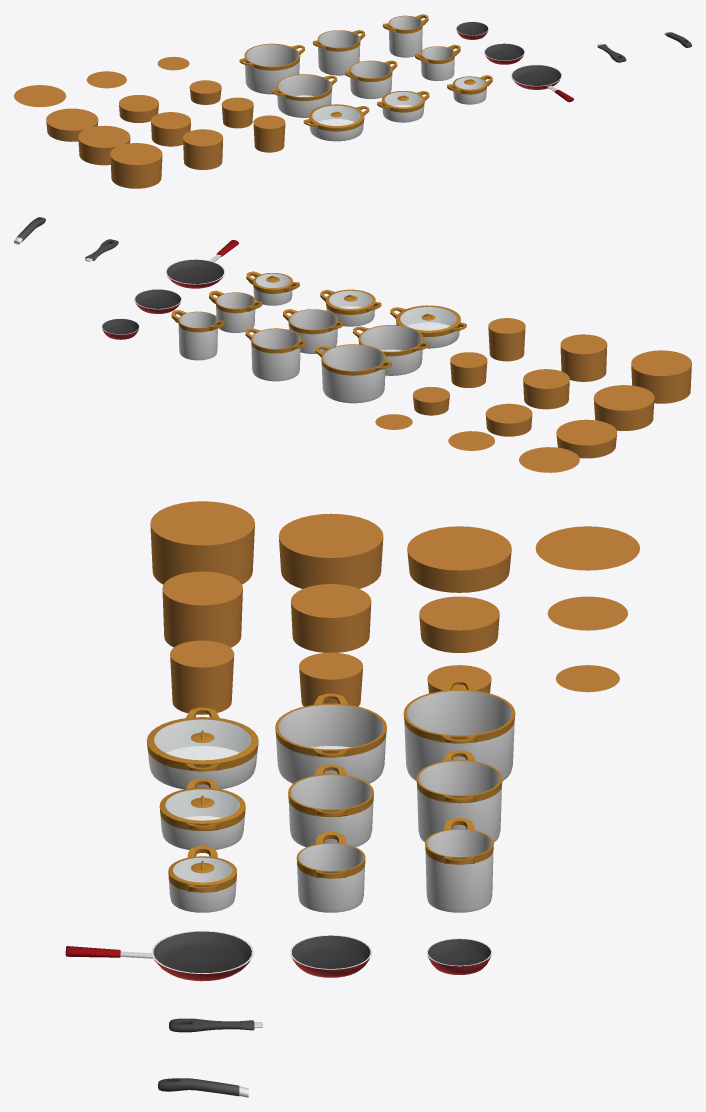
Rendered from cookwares.fbx.
3 views of the same model, one above another, from view 1: azimuth 30°, elevation 25°; view 2: azimuth 150°, elevation 25°; view 3: azimuth 270°, elevation 25° (orthographic). The views are drawn at different scales.
Parts seen in each view (by area): view 1: pot_Long_p1, pot_Long_1_Liquid, pot_Medium_p1, pot_Long_p2, pot_p1, pot_Medium_p2, pot_Medium_1_Liquid, pot_Long_2_Liquid, pot_Long_p3, pot_1_Liquid, pot_Medium_p3, pot_Medium_2_Liquid (+15 smaller); view 2: pot_Long_p1, pot_Long_1_Liquid, pot_Long_p2, pot_Medium_1_Liquid, pot_Medium_p1, pot_Long_2_Liquid, pot_Long_p3, pot_1_Liquid, pot_Medium_p2, pot_p1, pot_Medium_2_Liquid, pot_Medium_p3 (+15 smaller); view 3: pot_Long_p1, pot_Medium_p1, pot_Long_1_Liquid, pot_Medium_1_Liquid, pot_1_Liquid, pot_Long_p2, pot_p1, pot_Medium_p2, pot_Long_p3, pot_Long_2_Liquid, pot_Medium_2_Liquid, pot_Medium_p3 (+17 smaller).
Boxes of the visible parts, box(x1,y1,x2,y2) form: pot_Long_p1: box(239, 43, 305, 94); pot_Long_1_Liquid: box(110, 143, 162, 188); pot_Medium_p1: box(271, 74, 337, 117); pot_Long_p2: box(312, 30, 365, 75); pot_p1: box(303, 105, 369, 141); pot_Medium_p2: box(345, 60, 397, 98); pot_Medium_1_Liquid: box(78, 125, 130, 165); pot_Long_2_Liquid: box(183, 129, 223, 169); pot_Long_p3: box(382, 14, 428, 57); pot_1_Liquid: box(46, 108, 98, 141); pot_Medium_p3: box(415, 44, 460, 80); pot_Medium_2_Liquid: box(151, 112, 190, 146); pot_Long_p1: box(315, 344, 391, 403); pot_Long_1_Liquid: box(631, 350, 691, 403); pot_Long_p2: box(245, 328, 306, 381); pot_Medium_1_Liquid: box(593, 385, 654, 430); pot_Medium_p1: box(352, 325, 429, 375); pot_Long_2_Liquid: box(560, 334, 607, 381); pot_Long_p3: box(171, 310, 224, 360); pot_1_Liquid: box(556, 419, 617, 458); pot_Medium_p2: box(283, 309, 343, 353); pot_p1: box(390, 307, 466, 348); pot_Medium_2_Liquid: box(523, 369, 569, 409); pot_Medium_p3: box(209, 290, 262, 332); pot_Long_p1: box(403, 679, 515, 781); pot_Medium_p1: box(275, 693, 386, 783); pot_Long_1_Liquid: box(150, 501, 254, 584); pot_Medium_1_Liquid: box(278, 513, 383, 588); pot_1_Liquid: box(407, 526, 511, 592); pot_Long_p2: box(416, 750, 502, 842); pot_p1: box(146, 707, 258, 789); pot_Medium_p2: box(288, 764, 373, 847); pot_Long_p3: box(425, 818, 493, 912); pot_Long_2_Liquid: box(162, 571, 242, 647); pot_Medium_2_Liquid: box(291, 584, 371, 652); pot_Medium_p3: box(296, 832, 365, 912).
Bounding box in the file's own units: 25.55 × 11.19 × 1.29.
